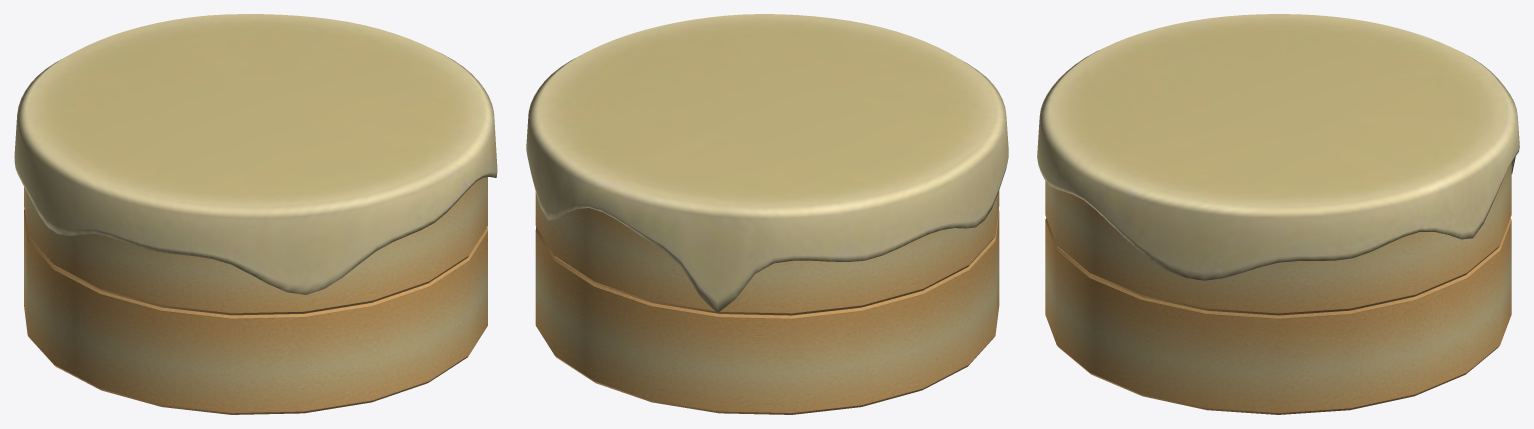
The model's file is creamCake.gltf.
3 views of the same model, side by side, from view 1: azimuth 30°, elevation 25°; view 2: azimuth 150°, elevation 25°; view 3: azimuth 270°, elevation 25° (orthographic).
Visible parts, largest first — view 1: JamCakeCreamLayer, JamCakeBottomLayer, JamCakeLayer; view 2: JamCakeCreamLayer, JamCakeBottomLayer, JamCakeLayer; view 3: JamCakeCreamLayer, JamCakeBottomLayer, JamCakeLayer.
Boxes of the visible parts, box(x1,y1,x2,y2) form: JamCakeCreamLayer: box(14, 14, 497, 294); JamCakeBottomLayer: box(24, 210, 487, 414); JamCakeLayer: box(24, 177, 487, 314); JamCakeCreamLayer: box(526, 14, 1008, 313); JamCakeBottomLayer: box(535, 210, 999, 414); JamCakeLayer: box(535, 190, 999, 315); JamCakeCreamLayer: box(1037, 14, 1519, 280); JamCakeBottomLayer: box(1045, 218, 1511, 414); JamCakeLayer: box(1045, 163, 1511, 315).
Size of the model in its own units: 0.2749 by 0.13 by 0.2749.
1 material, 1 textured.
